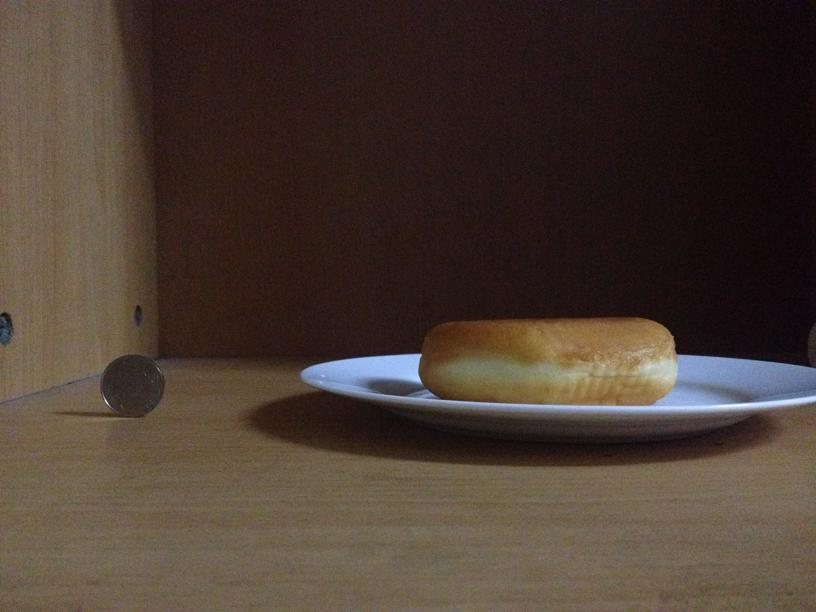coin: (417, 317, 678, 403)
doughnut: (417, 317, 678, 403)
